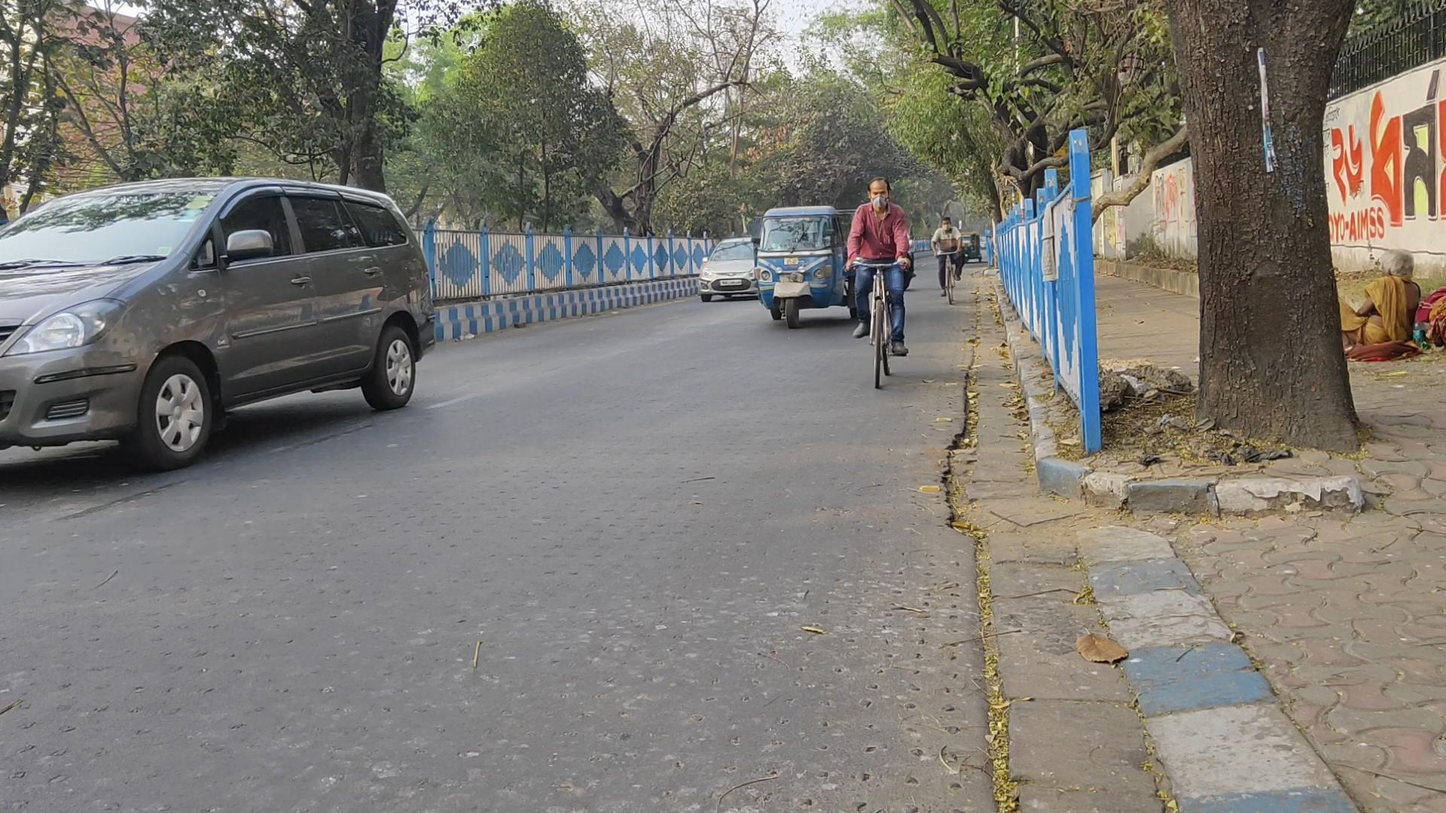bike: (844, 179, 912, 390), (931, 214, 966, 305)
car: (2, 173, 440, 465), (696, 236, 762, 307)
van: (759, 202, 853, 330)
